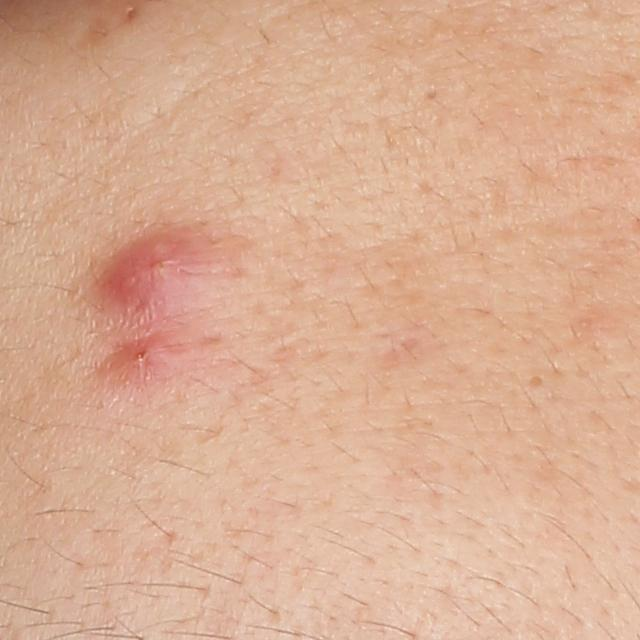comedo: (526, 371, 547, 392)
papule: (93, 221, 221, 317)
